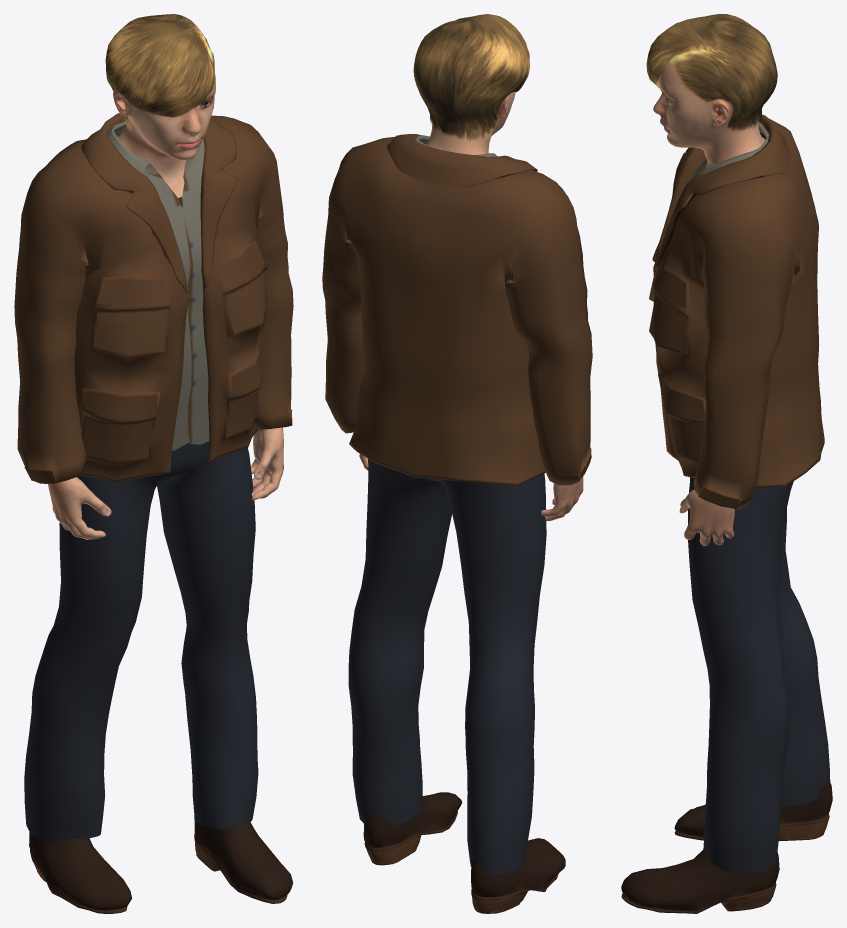
The model's file is civ_jacke_stand.glb.
3 views of the same model, side by side, from view 1: azimuth 30°, elevation 25°; view 2: azimuth 150°, elevation 25°; view 3: azimuth 270°, elevation 25° (orthographic). The views are drawn at different scales.
Visible parts, largest first — view 1: stand; view 2: stand; view 3: stand.
Boxes of the visible parts, bbox=[...] form: stand: bbox=[14, 14, 293, 913]; stand: bbox=[322, 14, 592, 913]; stand: bbox=[621, 14, 832, 913].
Size of the model in its own units: 0.5184 by 1.63 by 0.3689.
Materials: 7 (7 with a texture image).
